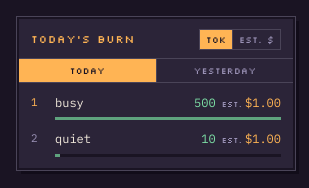
Test: Leaderboard › shows yesterday under the Yesterday label, and today under Today
This screenshot has width=309, height=188.
Click the button "Yesterday".
click(224, 70)  # box [156,59,293,82]
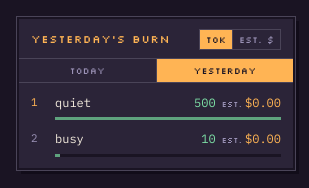
Expected: the text "Yesterday’s burn" is shown, [31,32,170,47]
Click the button "Today".
click(88, 70)  # box [19,59,156,82]
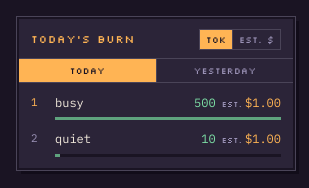
Expected: the text "Today’s burn" is shown, [31,32,135,47]
